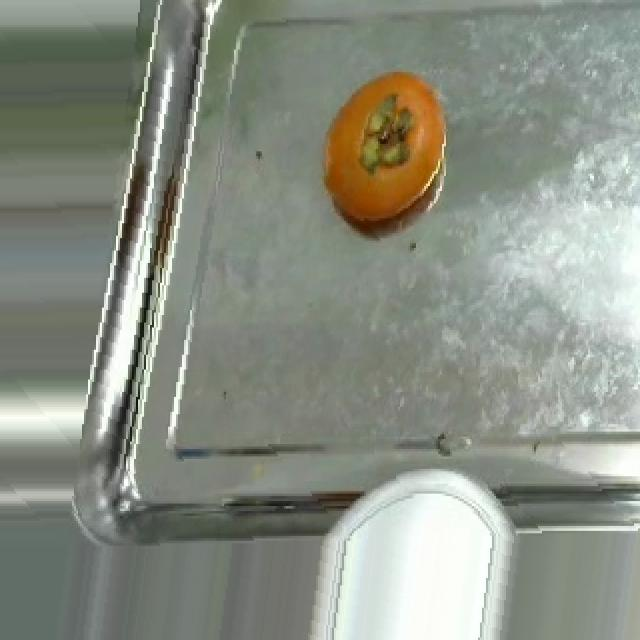Fruit: (316, 474, 504, 640), (318, 60, 456, 233)
